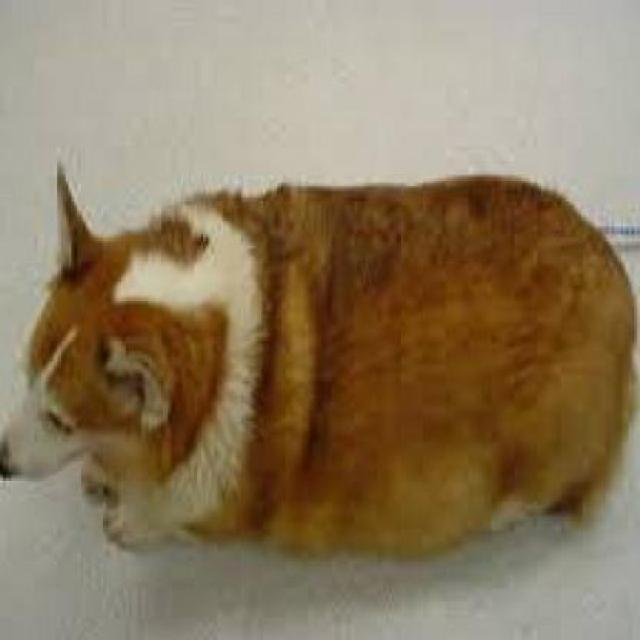Dog: (0, 150, 638, 563)
